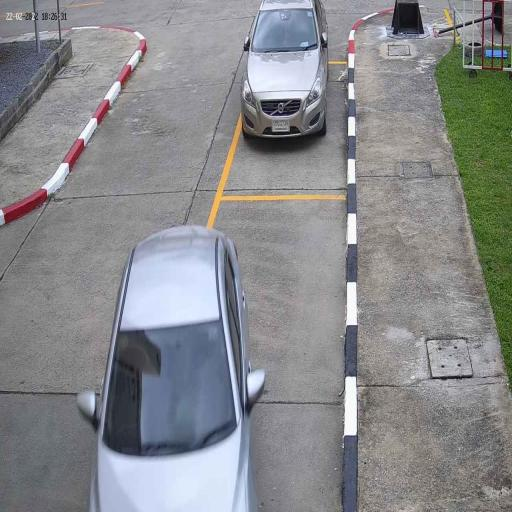car: (88, 227, 255, 512), (241, 0, 329, 142)
